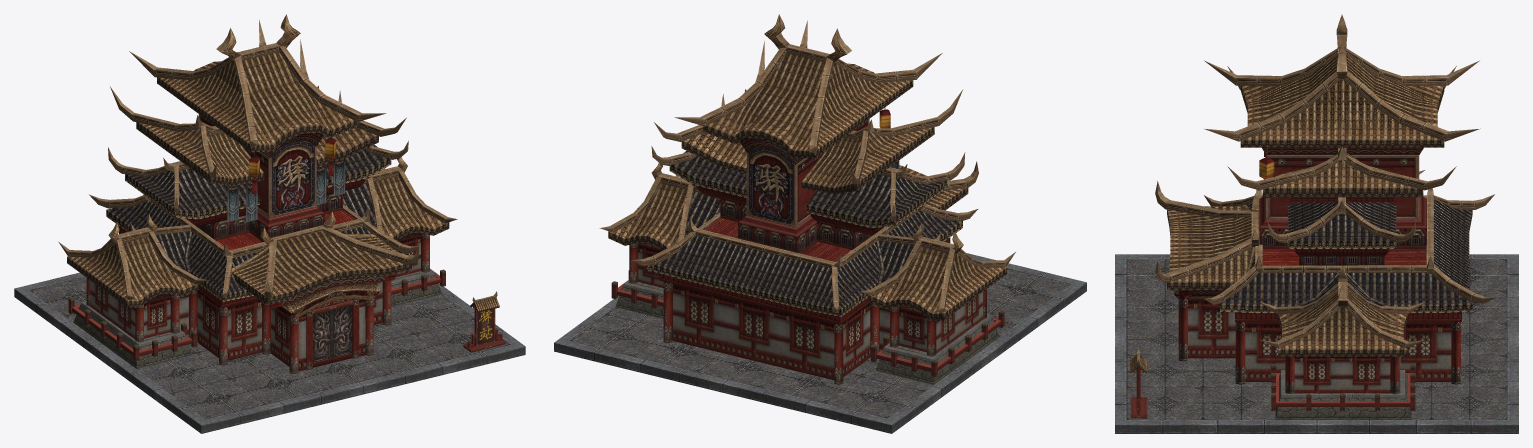
3 renders of one model, left to right at view 1: azimuth 30°, elevation 25°; view 2: azimuth 150°, elevation 25°; view 3: azimuth 270°, elevation 25°, orthographic. The views are drawn at different scales.
Parts seen in each view (by area): view 1: g_55; view 2: g_55; view 3: g_55.
Part boxes in pixels (box(x1,y1,x2,y2)): g_55: box(14, 14, 525, 433); g_55: box(554, 14, 1086, 433); g_55: box(1115, 14, 1518, 433).
Bounding box in the file's own units: 20 × 17.49 × 20.
Materials: 2 (2 with a texture image).
